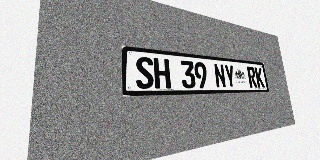3: (180, 60, 196, 88)
9: (194, 62, 208, 88)
H: (153, 58, 171, 89)
K: (254, 67, 265, 88)
N: (213, 63, 226, 88)
R: (247, 66, 257, 88)
S: (135, 56, 154, 89)
Y: (224, 64, 236, 88)
